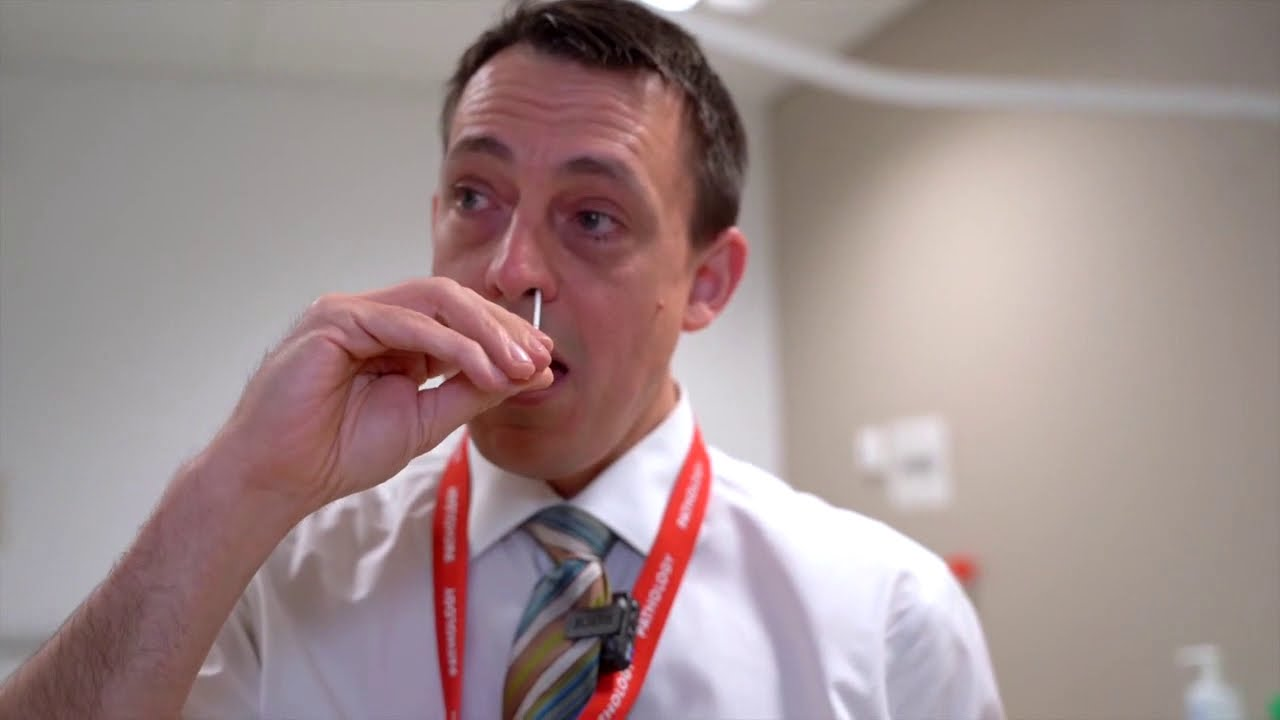without_mask: (418, 129, 673, 480)
